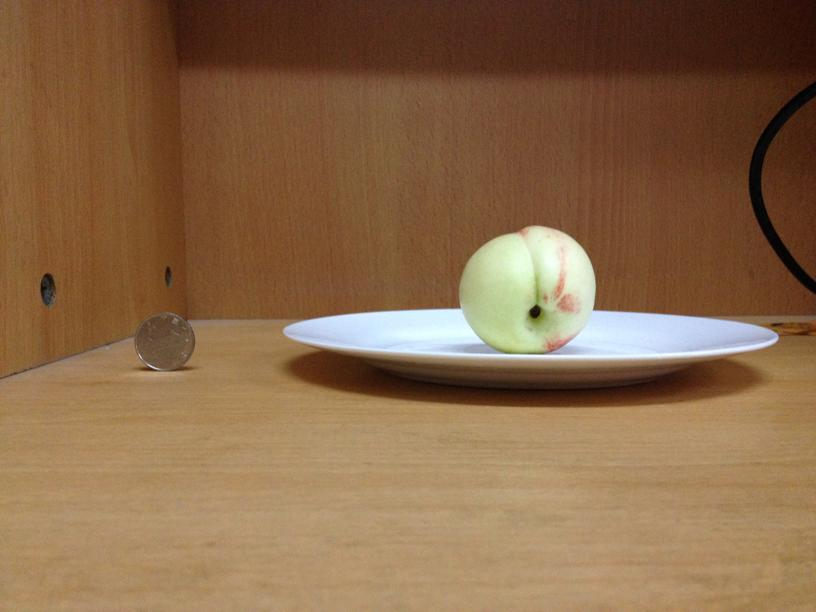coin: (135, 310, 195, 371)
peach: (459, 219, 594, 351)
